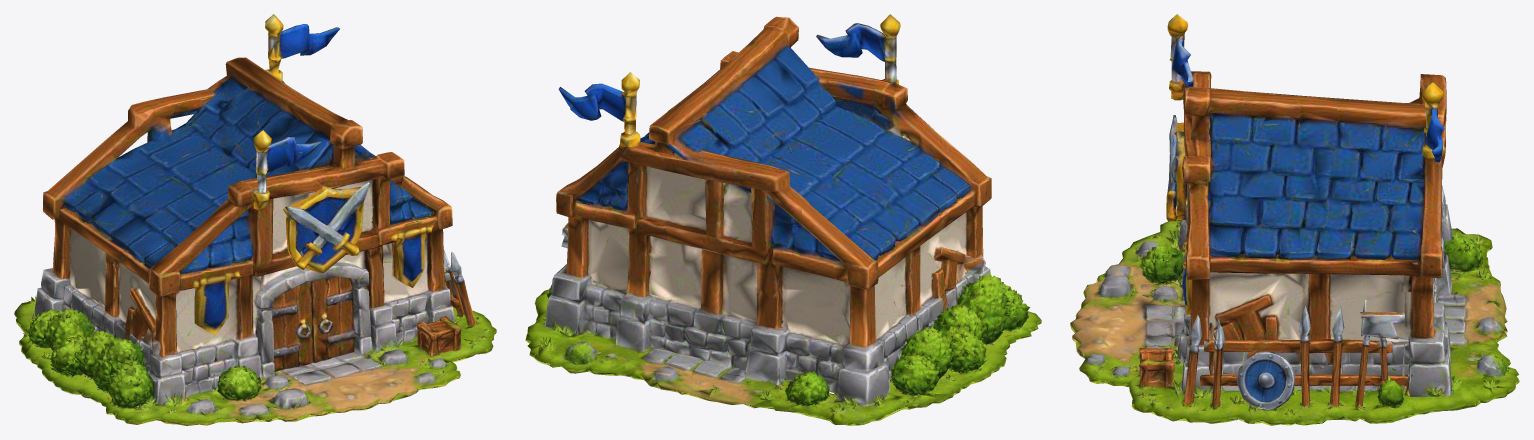
File: cuartel_e4.glb
3 renders of one model, left to right at view 1: azimuth 30°, elevation 25°; view 2: azimuth 150°, elevation 25°; view 3: azimuth 270°, elevation 25°, orthographic. The views are drawn at different scales.
Bounding box in the file's own units: 1.9 × 1.19 × 1.7.
1 material, 1 textured.
